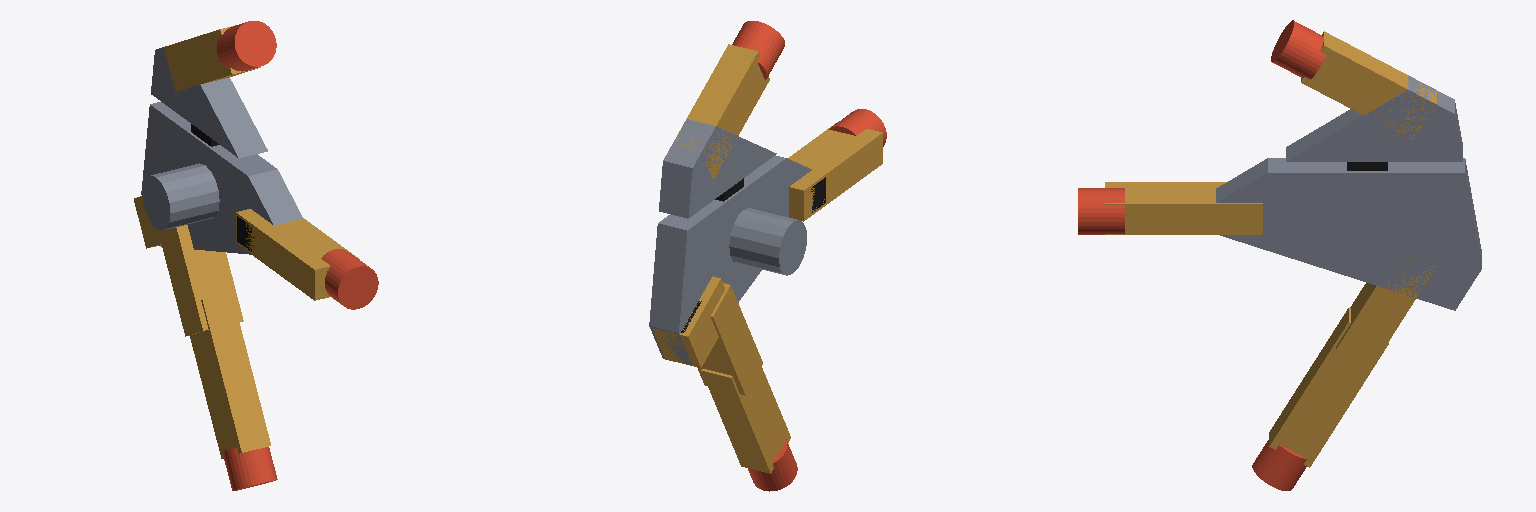
URDF robot description (g0059_c08):
<robot name="g0059_c08">
  <link name="palm">
    <visual name="palm_palm1">
      <origin xyz="0 0 0" rpy="0 0 0" />
      <geometry>
        <mesh filename="palm_palm1.obj" />
      </geometry>
      <material name="palm_palm1_mat">
        <color rgba="0.55 0.57 0.62 1" />
      </material>
    </visual>
    <collision>
      <origin xyz="0 0 0" rpy="0 0 0" />
      <geometry>
        <mesh filename="palm_palm1.obj" />
      </geometry>
    </collision>
    <visual name="palm_mount2">
      <origin xyz="0 0 0" rpy="0 0 0" />
      <geometry>
        <mesh filename="palm_mount2.obj" />
      </geometry>
      <material name="palm_mount2_mat">
        <color rgba="0.55 0.57 0.62 1" />
      </material>
    </visual>
    <collision>
      <origin xyz="0 0 0" rpy="0 0 0" />
      <geometry>
        <mesh filename="palm_mount2.obj" />
      </geometry>
    </collision>
    <visual name="palm_hinge3">
      <origin xyz="0 0.01 0.0325" rpy="-1.57079633 -6.123234e-17 1.57079633" />
      <geometry>
        <box size="0.029 0.034 0.02" />
      </geometry>
      <material name="palm_hinge3_mat">
        <color rgba="0.15 0.15 0.17 1" />
      </material>
    </visual>
    <collision>
      <origin xyz="0 0.01 0.0325" rpy="-1.57079633 -6.123234e-17 1.57079633" />
      <geometry>
        <box size="0.029 0.034 0.02" />
      </geometry>
    </collision>
    <visual name="palm_motor4">
      <origin xyz="-0.007 -0.08 0" rpy="3.14159265 1.2246468e-16 -1.57079633" />
      <geometry>
        <box size="0.029 0.034 0.02" />
      </geometry>
      <material name="palm_motor4_mat">
        <color rgba="0.15 0.15 0.17 1" />
      </material>
    </visual>
    <collision>
      <origin xyz="-0.007 -0.08 0" rpy="3.14159265 1.2246468e-16 -1.57079633" />
      <geometry>
        <box size="0.029 0.034 0.02" />
      </geometry>
    </collision>
    <visual name="palm_motor5">
      <origin xyz="-0.0045 0.0666996732 -0.0467548095" rpy="1.57079633 -0.523598776 -1.57079633" />
      <geometry>
        <box size="0.029 0.034 0.02" />
      </geometry>
      <material name="palm_motor5_mat">
        <color rgba="0.15 0.15 0.17 1" />
      </material>
    </visual>
    <collision>
      <origin xyz="-0.0045 0.0666996732 -0.0467548095" rpy="1.57079633 -0.523598776 -1.57079633" />
      <geometry>
        <box size="0.029 0.034 0.02" />
      </geometry>
    </collision>
    <inertial>
      <origin xyz="2.12231761e-19 0.00819774857 -0.00708706891" rpy="1.57079633 0.196925915 1.57079633" />
      <mass value="0.58203182" />
      <inertia ixx="0.000359378157" ixy="0" ixz="0" iyy="0.00145454641" iyz="0" izz="0.00175804951" />
    </inertial>
  </link>
  <link name="palm0">
    <visual name="palm0_palm1">
      <origin xyz="0 0 0" rpy="0 0 0" />
      <geometry>
        <mesh filename="palm0_palm1.obj" />
      </geometry>
      <material name="palm0_palm1_mat">
        <color rgba="0.55 0.57 0.62 1" />
      </material>
    </visual>
    <collision>
      <origin xyz="0 0 0" rpy="0 0 0" />
      <geometry>
        <mesh filename="palm0_palm1.obj" />
      </geometry>
    </collision>
    <visual name="palm0_motor2">
      <origin xyz="0 0.0364951905 0.03625" rpy="-1.57079633 -1.04719755 1.57079633" />
      <geometry>
        <box size="0.029 0.034 0.02" />
      </geometry>
      <material name="palm0_motor2_mat">
        <color rgba="0.15 0.15 0.17 1" />
      </material>
    </visual>
    <collision>
      <origin xyz="0 0.0364951905 0.03625" rpy="-1.57079633 -1.04719755 1.57079633" />
      <geometry>
        <box size="0.029 0.034 0.02" />
      </geometry>
    </collision>
    <inertial>
      <origin xyz="3.6667323e-19 0.0181745271 0.0245465136" rpy="1.57079633 -0.175390544 1.57079633" />
      <mass value="0.168441037" />
      <inertia ixx="3.60457308e-05" ixy="0" ixz="0" iyy="0.000141706691" iyz="0" izz="0.000161582082" />
    </inertial>
  </link>
  <link name="f0_link0">
    <visual name="f0_link0_link1">
      <origin xyz="0.039 -0.00625 3.08148791e-33" rpy="0 -0 0" />
      <geometry>
        <box size="0.111 0.0365 0.024" />
      </geometry>
      <material name="f0_link0_link1_mat">
        <color rgba="0.80 0.62 0.30 1" />
      </material>
    </visual>
    <collision>
      <origin xyz="0.039 -0.00625 3.08148791e-33" rpy="0 -0 0" />
      <geometry>
        <box size="0.111 0.0365 0.024" />
      </geometry>
    </collision>
    <inertial>
      <origin xyz="0.039 -0.00625 0" rpy="0 0 0" />
      <mass value="0.170163" />
      <inertia ixx="2.70594621e-05" ixy="0" ixz="0" iyy="0.000182882684" iyz="0" izz="0.000193606498" />
    </inertial>
  </link>
  <link name="f0_link1">
    <visual name="f0_link1_link1">
      <origin xyz="0.01675 0 1.54074396e-33" rpy="-1.57079633 -0 -1.57079633" />
      <geometry>
        <cylinder radius="0.0165" length="0.0335" />
      </geometry>
      <material name="f0_link1_link1_mat">
        <color rgba="0.85 0.35 0.25 1" />
      </material>
    </visual>
    <collision>
      <origin xyz="0.01675 0 1.54074396e-33" rpy="-1.57079633 -0 -1.57079633" />
      <geometry>
        <cylinder radius="0.0165" length="0.0335" />
      </geometry>
    </collision>
    <inertial>
      <origin xyz="0.01675 0 0" rpy="0 0 0" />
      <mass value="0.0830708765" />
      <inertia ixx="1.04115311e-05" ixy="0" ixz="0" iyy="2.77522648e-05" iyz="0" izz="2.77522648e-05" />
    </inertial>
  </link>
  <link name="f1_link0">
    <visual name="f1_link0_link1">
      <origin xyz="-0.00625 0 -0.0165" rpy="0 4.06369831e-17 0" />
      <geometry>
        <box size="0.0365 0.029 0.053" />
      </geometry>
      <material name="f1_link0_link1_mat">
        <color rgba="0.80 0.62 0.30 1" />
      </material>
    </visual>
    <collision>
      <origin xyz="-0.00625 0 -0.0165" rpy="0 4.06369831e-17 0" />
      <geometry>
        <box size="0.0365 0.029 0.053" />
      </geometry>
    </collision>
    <inertial>
      <origin xyz="-0.00625 0 -0.0165" rpy="0 0 0" />
      <mass value="0.098175875" />
      <inertia ixx="2.98618286e-05" ixy="0" ixz="0" iyy="3.38809035e-05" iyz="0" izz="1.778006e-05" />
    </inertial>
  </link>
  <link name="f1_link1">
    <visual name="f1_link1_link1">
      <origin xyz="0.03375 0 6.9388939e-18" rpy="0 4.06369831e-17 0" />
      <geometry>
        <box size="0.0915 0.033 0.029" />
      </geometry>
      <material name="f1_link1_link1_mat">
        <color rgba="0.80 0.62 0.30 1" />
      </material>
    </visual>
    <collision>
      <origin xyz="0.03375 0 6.9388939e-18" rpy="0 4.06369831e-17 0" />
      <geometry>
        <box size="0.0915 0.033 0.029" />
      </geometry>
    </collision>
    <inertial>
      <origin xyz="0.03375 0 0" rpy="0 0 0" />
      <mass value="0.153239625" />
      <inertia ixx="2.46460397e-05" ixy="0" ixz="0" iyy="0.000117652915" iyz="0" izz="0.000120819867" />
    </inertial>
  </link>
  <link name="f1_link2">
    <visual name="f1_link2_link1">
      <origin xyz="0.04375 0 -6.9388939e-18" rpy="0 4.06369831e-17 0" />
      <geometry>
        <box size="0.1115 0.024 0.033" />
      </geometry>
      <material name="f1_link2_link1_mat">
        <color rgba="0.80 0.62 0.30 1" />
      </material>
    </visual>
    <collision>
      <origin xyz="0.04375 0 -6.9388939e-18" rpy="0 4.06369831e-17 0" />
      <geometry>
        <box size="0.1115 0.024 0.033" />
      </geometry>
    </collision>
    <inertial>
      <origin xyz="0.04375 0 0" rpy="0 0 0" />
      <mass value="0.154539" />
      <inertia ixx="2.14422863e-05" ixy="0" ixz="0" iyy="0.000174130038" iyz="0" izz="0.000167523496" />
    </inertial>
  </link>
  <link name="f1_link3">
    <visual name="f1_link3_link1">
      <origin xyz="0.019 0 -1.73472348e-17" rpy="-1.57079633 -0 -1.57079633" />
      <geometry>
        <cylinder radius="0.0165" length="0.029" />
      </geometry>
      <material name="f1_link3_link1_mat">
        <color rgba="0.85 0.35 0.25 1" />
      </material>
    </visual>
    <collision>
      <origin xyz="0.019 0 -1.73472348e-17" rpy="-1.57079633 -0 -1.57079633" />
      <geometry>
        <cylinder radius="0.0165" length="0.029" />
      </geometry>
    </collision>
    <inertial>
      <origin xyz="0.019 0 0" rpy="0 0 0" />
      <mass value="0.0763354" />
      <inertia ixx="9.49466441e-06" ixy="0" ixz="0" iyy="2.24143997e-05" iyz="0" izz="2.24143997e-05" />
    </inertial>
  </link>
  <link name="f2_link0">
    <visual name="f2_link0_link1">
      <origin xyz="0.03375 0 0" rpy="0 7.03853194e-17 0" />
      <geometry>
        <box size="0.0915 0.024 0.033" />
      </geometry>
      <material name="f2_link0_link1_mat">
        <color rgba="0.80 0.62 0.30 1" />
      </material>
    </visual>
    <collision>
      <origin xyz="0.03375 0 0" rpy="0 7.03853194e-17 0" />
      <geometry>
        <box size="0.0915 0.024 0.033" />
      </geometry>
    </collision>
    <inertial>
      <origin xyz="0.03375 0 0" rpy="0 0 0" />
      <mass value="0.126819" />
      <inertia ixx="1.75961363e-05" ixy="0" ixz="0" iyy="9.99888553e-05" iyz="0" izz="9.45673431e-05" />
    </inertial>
  </link>
  <link name="f2_link1">
    <visual name="f2_link1_link1">
      <origin xyz="0.019 0 -6.9388939e-18" rpy="-1.57079633 -0 -1.57079633" />
      <geometry>
        <cylinder radius="0.0165" length="0.029" />
      </geometry>
      <material name="f2_link1_link1_mat">
        <color rgba="0.85 0.35 0.25 1" />
      </material>
    </visual>
    <collision>
      <origin xyz="0.019 0 -6.9388939e-18" rpy="-1.57079633 -0 -1.57079633" />
      <geometry>
        <cylinder radius="0.0165" length="0.029" />
      </geometry>
    </collision>
    <inertial>
      <origin xyz="0.019 0 0" rpy="0 0 0" />
      <mass value="0.0763354" />
      <inertia ixx="9.49466441e-06" ixy="0" ixz="0" iyy="2.24143997e-05" iyz="0" izz="2.24143997e-05" />
    </inertial>
  </link>
  <joint name="palm0_joint" type="revolute">
    <parent link="palm" />
    <child link="palm0" />
    <origin xyz="0 0.01 0.04" rpy="0 0 0" />
    <axis xyz="0 1 6.123234e-17" />
    <limit effort="0.5" lower="-0.523598776" upper="0.523598776" velocity="5" />
    <dynamics damping="0.0775033" friction="0" />
  </joint>
  <joint name="f0_j0" type="revolute">
    <parent link="palm" />
    <child link="f0_link0" />
    <origin xyz="0.0005 -0.08 0" rpy="0 1.8369702e-16 -1.57079633" />
    <axis xyz="1 0 6.123234e-17" />
    <limit effort="0.5" lower="-1.57079633" upper="1.57079633" velocity="5" />
    <dynamics damping="0.0775033" friction="0" />
  </joint>
  <joint name="f0_j1" type="revolute">
    <parent link="f0_link0" />
    <child link="f0_link1" />
    <origin xyz="0.08 0 0" rpy="0 0 0" />
    <axis xyz="1 0 6.123234e-17" />
    <limit effort="0.5" lower="-1.57079633" upper="1.57079633" velocity="5" />
    <dynamics damping="0.0775033" friction="0" />
  </joint>
  <joint name="f1_j0" type="revolute">
    <parent link="palm" />
    <child link="f1_link0" />
    <origin xyz="-0.0045 0.04 -0.04" rpy="0 1.04719755 -1.57079633" />
    <axis xyz="0 0 1" />
    <limit effort="0.5" lower="-0.523598776" upper="1.57079633" velocity="5" />
    <dynamics damping="0.0775033" friction="0" />
  </joint>
  <joint name="f1_j1" type="revolute">
    <parent link="f1_link0" />
    <child link="f1_link1" />
    <origin xyz="0 0 0" rpy="0 0 0" />
    <axis xyz="0 1 6.123234e-17" />
    <limit effort="0.5" lower="-0.523598776" upper="0.523598776" velocity="5" />
    <dynamics damping="0.0775033" friction="0" />
  </joint>
  <joint name="f1_j2" type="revolute">
    <parent link="f1_link1" />
    <child link="f1_link2" />
    <origin xyz="0.07 0 0" rpy="0 0 0" />
    <axis xyz="0 0 1" />
    <limit effort="0.5" lower="-0.523598776" upper="1.57079633" velocity="5" />
    <dynamics damping="0.0775033" friction="0" />
  </joint>
  <joint name="f1_j3" type="revolute">
    <parent link="f1_link2" />
    <child link="f1_link3" />
    <origin xyz="0.09 0 0" rpy="0 0 0" />
    <axis xyz="0 0 1" />
    <limit effort="0.5" lower="-0.523598776" upper="1.57079633" velocity="5" />
    <dynamics damping="0.0775033" friction="0" />
  </joint>
  <joint name="f2_j0" type="revolute">
    <parent link="palm0" />
    <child link="f2_link0" />
    <origin xyz="0 0.03 0.04" rpy="-0 -0.523598776 -1.57079633" />
    <axis xyz="0 0 1" />
    <limit effort="0.5" lower="-0.523598776" upper="1.57079633" velocity="5" />
    <dynamics damping="0.0775033" friction="0" />
  </joint>
  <joint name="f2_j1" type="revolute">
    <parent link="f2_link0" />
    <child link="f2_link1" />
    <origin xyz="0.07 0 0" rpy="0 0 0" />
    <axis xyz="0 0 1" />
    <limit effort="0.5" lower="-0.523598776" upper="1.57079633" velocity="5" />
    <dynamics damping="0.0775033" friction="0" />
  </joint>
</robot>

--- Render facts (derived) ---
The picture shows the robot from 3 angles, left to right: view 1: azimuth 30°, elevation 25°; view 2: azimuth 150°, elevation 25°; view 3: azimuth 270°, elevation 25°; orthographic projection.
Robot: g0059_c08 — 10 links, 9 joints (9 revolute); root link palm; default pose: every joint at zero.
Visible links, largest first — view 1: palm, f1_link2, palm0, f0_link0, f1_link1, f2_link0, f0_link1, f2_link1, f1_link3, f1_link0; view 2: palm, palm0, f1_link2, f0_link0, f2_link0, f1_link1, f1_link0, f2_link1, f1_link3, f0_link1; view 3: palm, palm0, f0_link0, f1_link2, f2_link0, f1_link1, f0_link1, f2_link1, f1_link3.
Boxes of the visible links, x1,y1,x2,y2 form: palm: (141,102,303,254); f1_link2: (190,293,270,458); palm0: (151,47,267,157); f0_link0: (236,209,359,300); f1_link1: (158,225,243,336); f2_link0: (164,26,260,91); f0_link1: (321,249,378,309); f2_link1: (217,21,276,71); f1_link3: (222,447,277,490); f1_link0: (134,196,161,248); palm: (649,155,825,365); palm0: (659,119,776,218); f1_link2: (701,367,790,473); f0_link0: (788,122,882,221); f2_link0: (675,44,769,179); f1_link1: (697,283,762,395); f1_link0: (653,276,724,367); f2_link1: (732,21,784,79); f1_link3: (748,439,797,491); f0_link1: (829,109,886,146); palm: (1216,158,1481,310); palm0: (1286,75,1462,161); f0_link0: (1105,182,1262,234); f1_link2: (1269,308,1388,467); f2_link0: (1301,31,1436,139); f1_link1: (1336,256,1435,368); f0_link1: (1078,188,1124,234); f2_link1: (1271,20,1325,79); f1_link3: (1252,440,1306,490).
Bounding box of the posed robot: 0.069 × 0.284 × 0.3619 m (x, y, z).
3 mesh visuals loaded from 3 distinct referenced files (3 OBJ).
